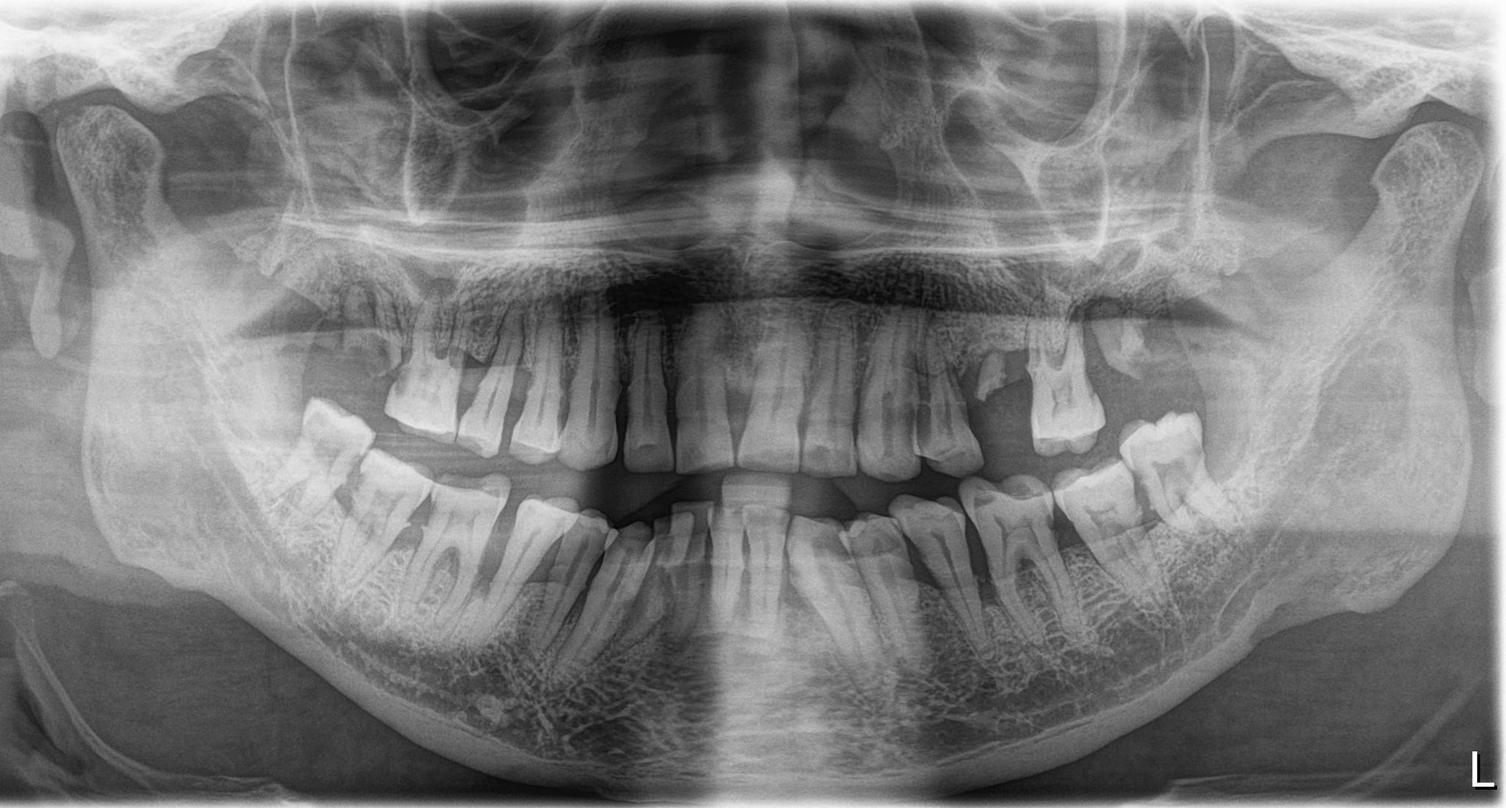Retained Root: (305, 289, 398, 399), (1090, 311, 1192, 411), (963, 336, 1030, 449)
